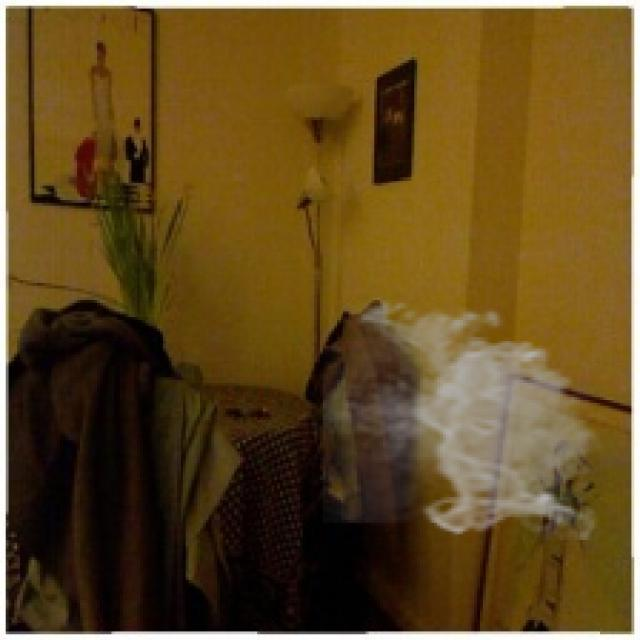Smoke: (323, 294, 606, 540)
